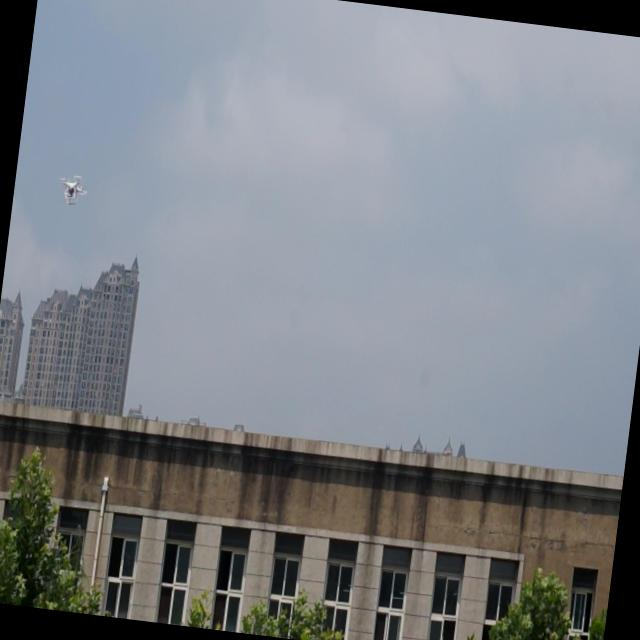drone: (55, 168, 90, 210)
